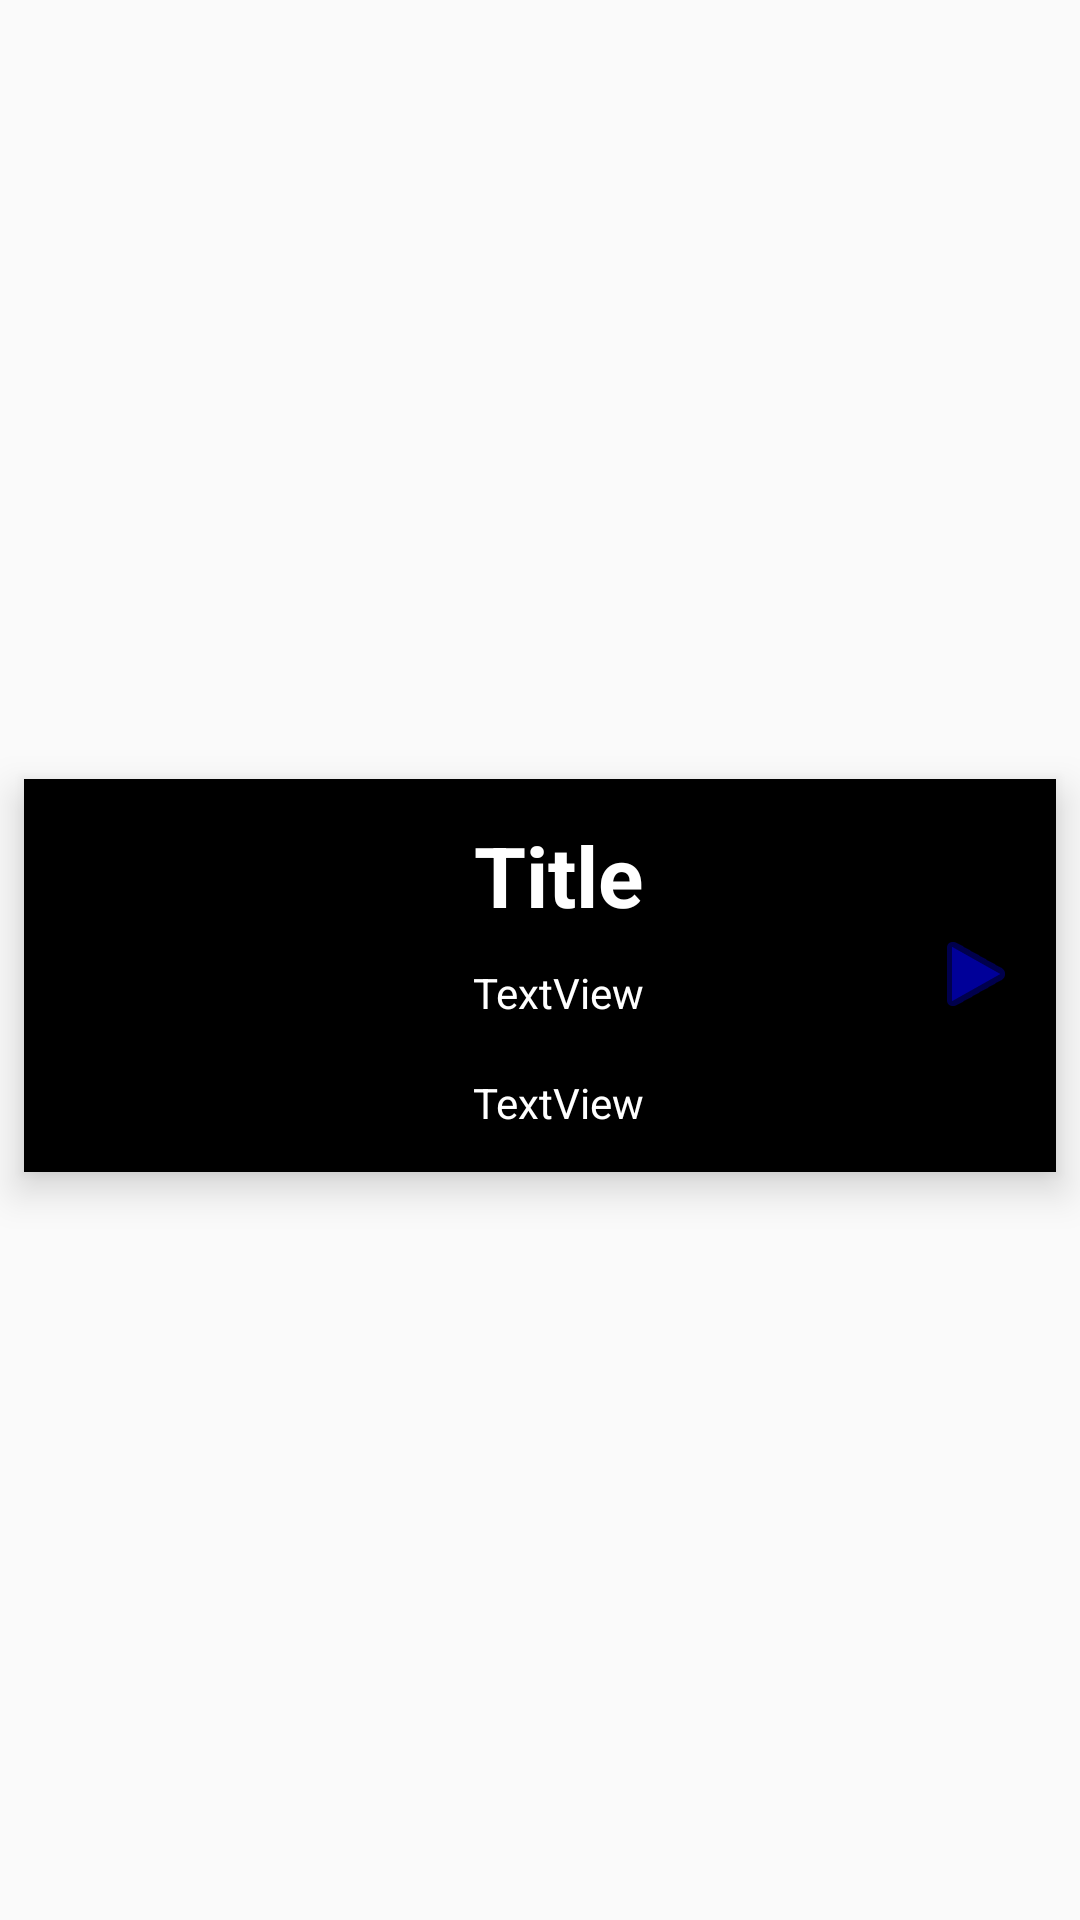

Where icons sit on this 1080px x 1920px app screen, as (x1, y1, x2, y2):
play: (947, 942, 1005, 1006)
